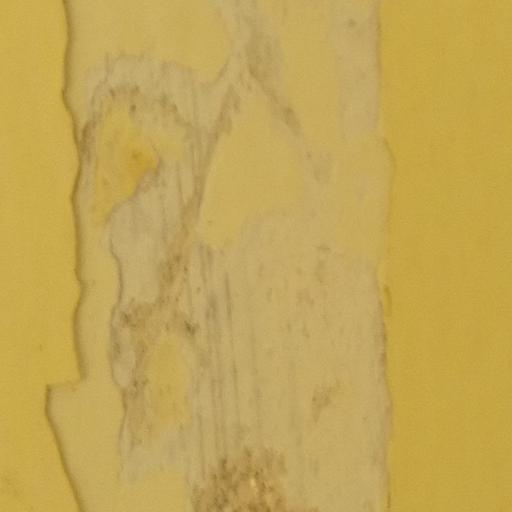peeling: (48, 1, 411, 512)
